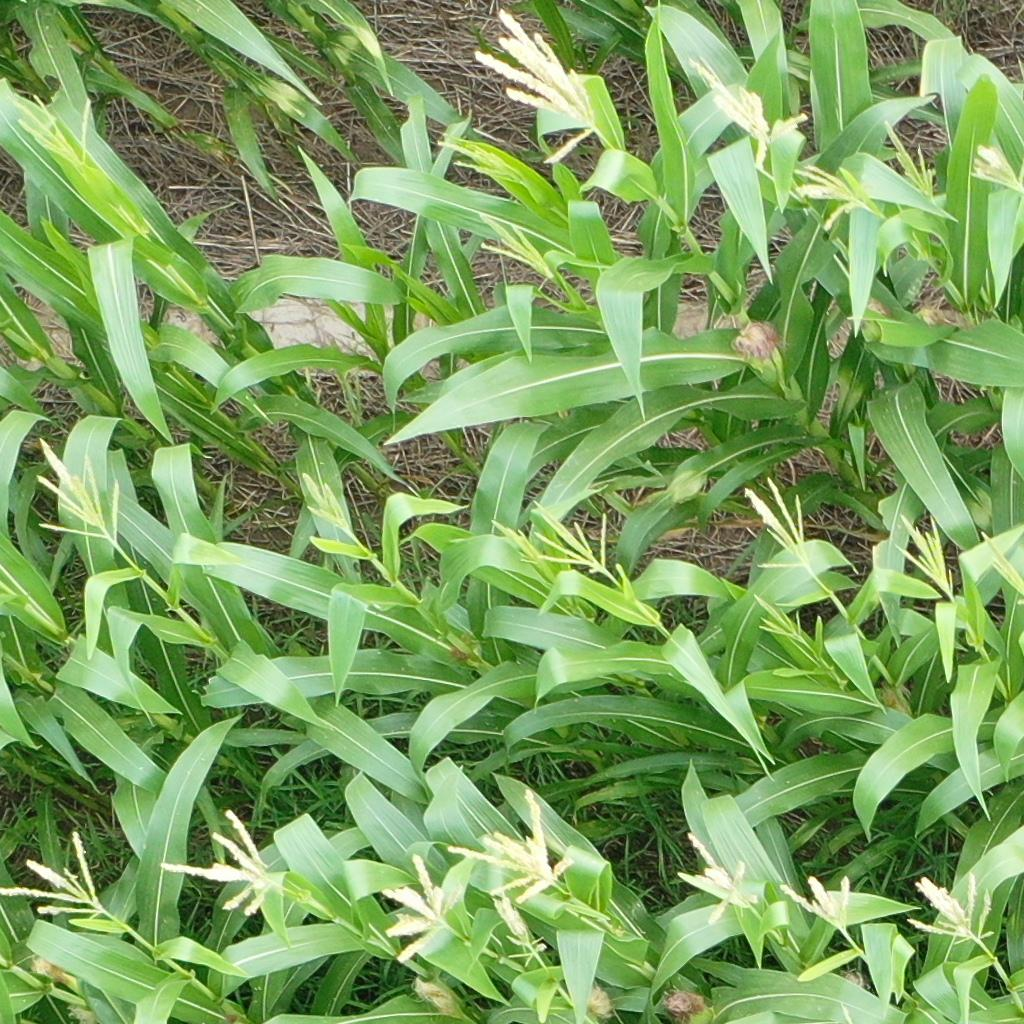Tassel: (473, 6, 607, 163), (446, 790, 579, 903), (686, 56, 808, 167), (158, 809, 279, 916), (30, 436, 126, 548), (380, 851, 464, 961), (1, 831, 107, 918), (2, 80, 97, 168), (677, 831, 759, 927), (907, 871, 997, 948), (743, 475, 813, 570), (527, 500, 615, 573), (476, 210, 554, 282), (790, 164, 868, 233), (890, 513, 955, 590), (881, 120, 941, 199), (775, 872, 854, 931), (436, 132, 524, 183), (489, 897, 550, 970), (300, 471, 355, 532), (982, 531, 1024, 603), (968, 141, 1024, 194), (753, 592, 803, 644), (487, 518, 539, 557)
